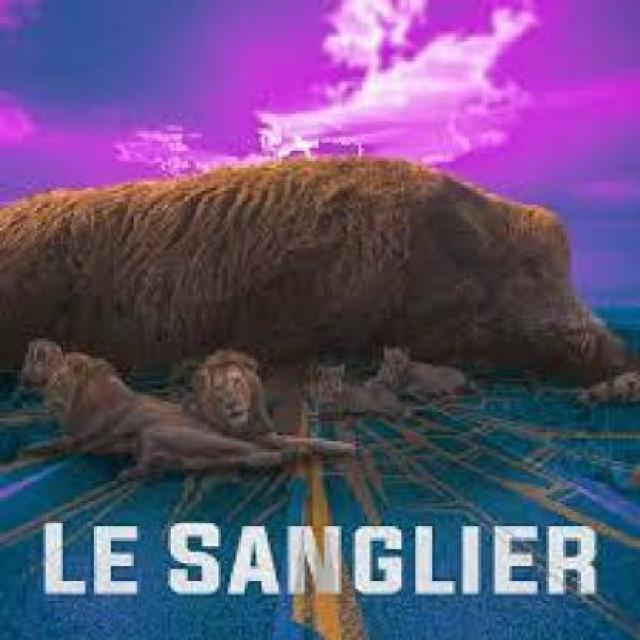wildboar: (0, 143, 640, 431)
